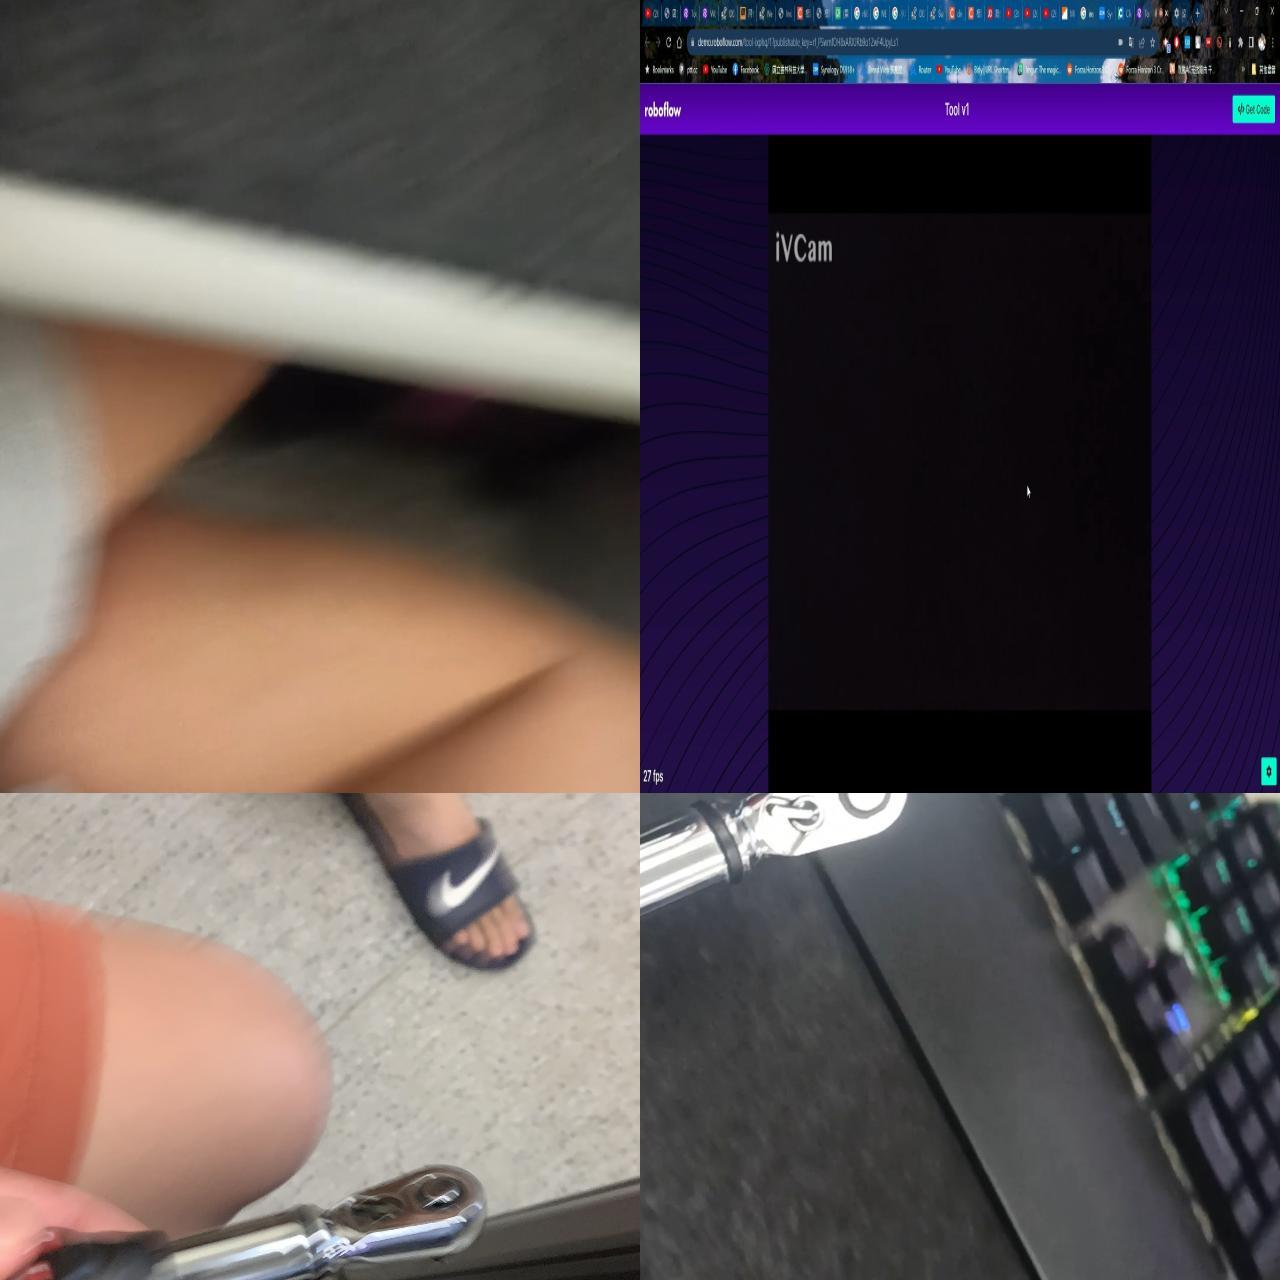Tool: (720, 794, 915, 870)
